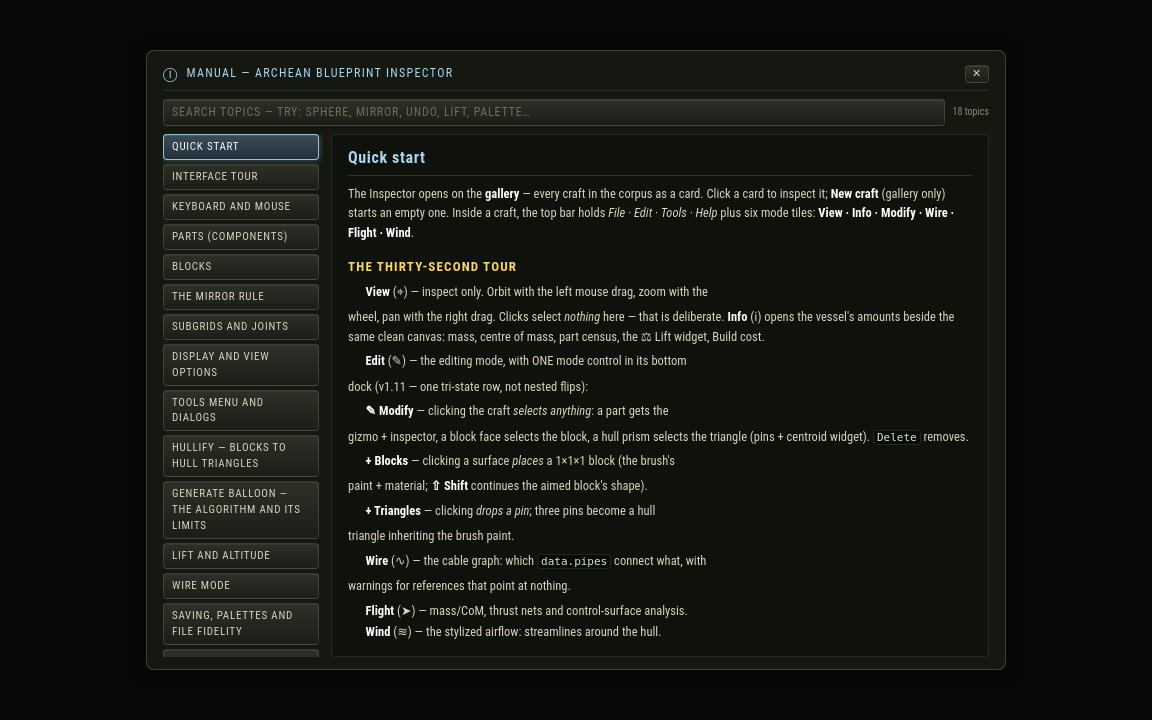
HelpDialog — word search (ranked, AND, honest empty) › an unmatchable query shows help-noresults, never a blank article
Type "zzqqx" into the field with test id "help-search" at point(554, 112), box [163,99,944,126]
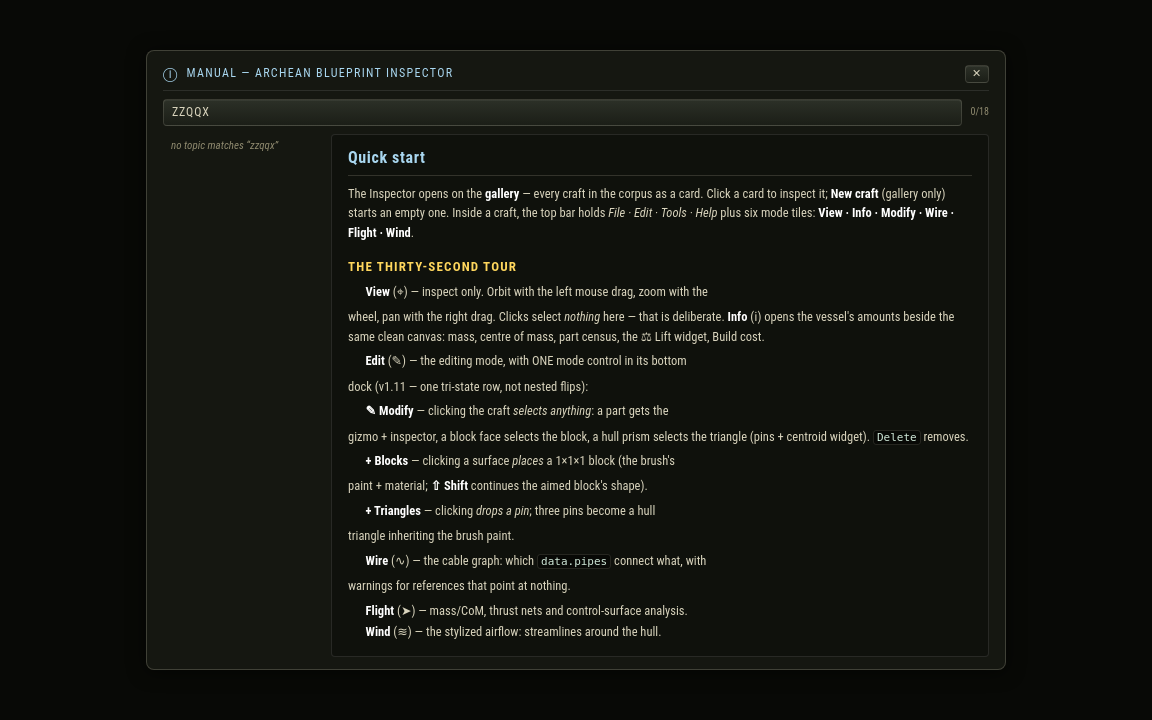
Expected: the text "no topic matches “zzqqx”" is shown, [171,139,278,152]
